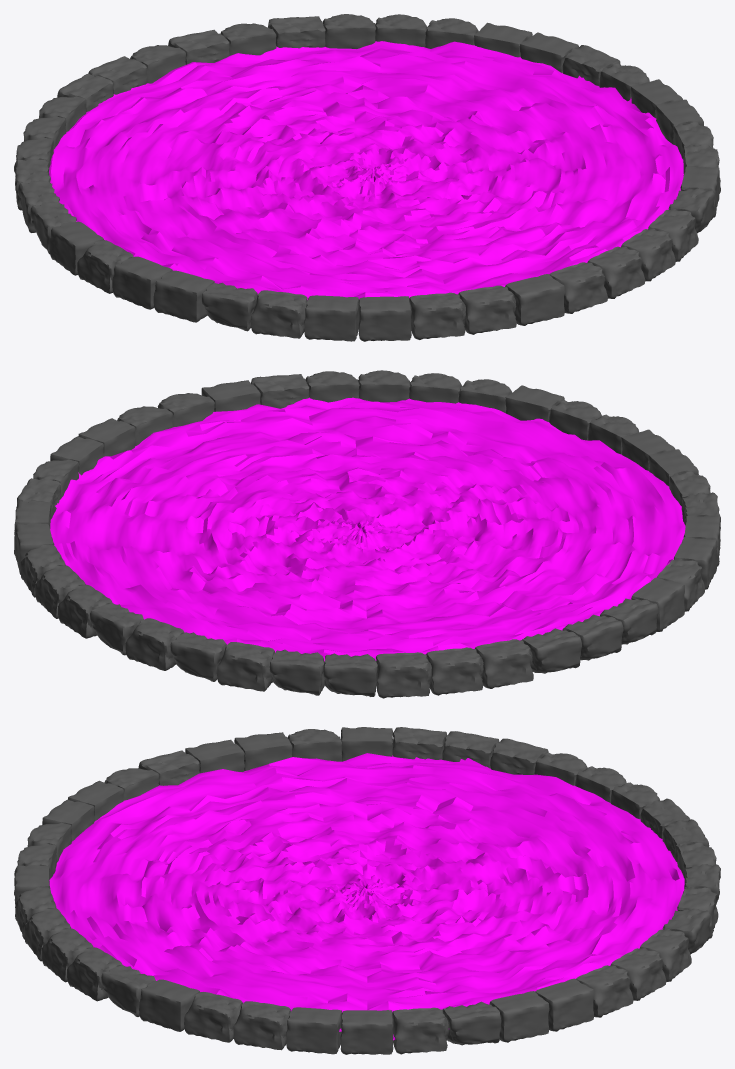
The model's file is portal.fbx.
3 renders of one model, top to bottom at view 1: azimuth 30°, elevation 25°; view 2: azimuth 150°, elevation 25°; view 3: azimuth 270°, elevation 25°, orthographic.
Parts seen in each view (by area): view 1: Disc, Cube_24, Cube_1_22, Cube_23, Cube_1_25, Cube_1_21, Cube_27, Cube_20, Cube_28, Cube_2_26, Cube_1_19, Cube_1_18 (+29 smaller); view 2: Disc, Cube_1_36, Cube_1_35, Cube_1_39, Cube_1_34, Cube_2_38, Cube_2_37, Cube_1_1, Cube_2_33, Cube_2_0, Cube_2_32, Cube_2_2 (+29 smaller); view 3: Disc, Cube_11, Cube_1_9, Cube_10, Cube_1_12, Cube_7, Cube_1_13, Cube_14, Cube_6, Cube_2_8, Cube_1_5, Cube_1_4 (+29 smaller).
Part boxes in pixels (x1,y1,x2,y2): Disc: [49, 41, 683, 299]; Cube_24: [304, 295, 358, 341]; Cube_1_22: [409, 292, 465, 339]; Cube_23: [358, 296, 411, 341]; Cube_1_25: [251, 290, 307, 338]; Cube_1_21: [458, 285, 516, 334]; Cube_27: [153, 270, 214, 322]; Cube_20: [505, 274, 564, 325]; Cube_28: [112, 256, 172, 309]; Cube_2_26: [201, 282, 257, 331]; Cube_1_19: [549, 262, 607, 313]; Cube_1_18: [587, 246, 645, 298]; Disc: [50, 397, 685, 661]; Cube_1_36: [376, 652, 431, 698]; Cube_1_35: [426, 647, 483, 695]; Cube_1_39: [217, 642, 274, 691]; Cube_1_34: [475, 639, 533, 688]; Cube_2_38: [269, 649, 324, 695]; Cube_2_37: [323, 653, 377, 696]; Cube_1_1: [125, 618, 184, 670]; Cube_2_33: [521, 628, 581, 673]; Cube_2_0: [170, 632, 226, 681]; Cube_2_32: [562, 614, 623, 660]; Cube_2_2: [90, 603, 143, 655]; Disc: [49, 753, 684, 1040]; Cube_11: [286, 1007, 341, 1054]; Cube_1_9: [392, 1007, 448, 1054]; Cube_10: [340, 1010, 393, 1054]; Cube_1_12: [233, 1001, 290, 1050]; Cube_7: [489, 991, 549, 1042]; Cube_1_13: [184, 992, 242, 1042]; Cube_14: [139, 979, 199, 1031]; Cube_6: [535, 978, 594, 1031]; Cube_2_8: [442, 1001, 501, 1045]; Cube_1_5: [576, 965, 633, 1017]; Cube_1_4: [610, 948, 666, 1000].
Bounding box in the file's own units: 211 × 10.82 × 211.
